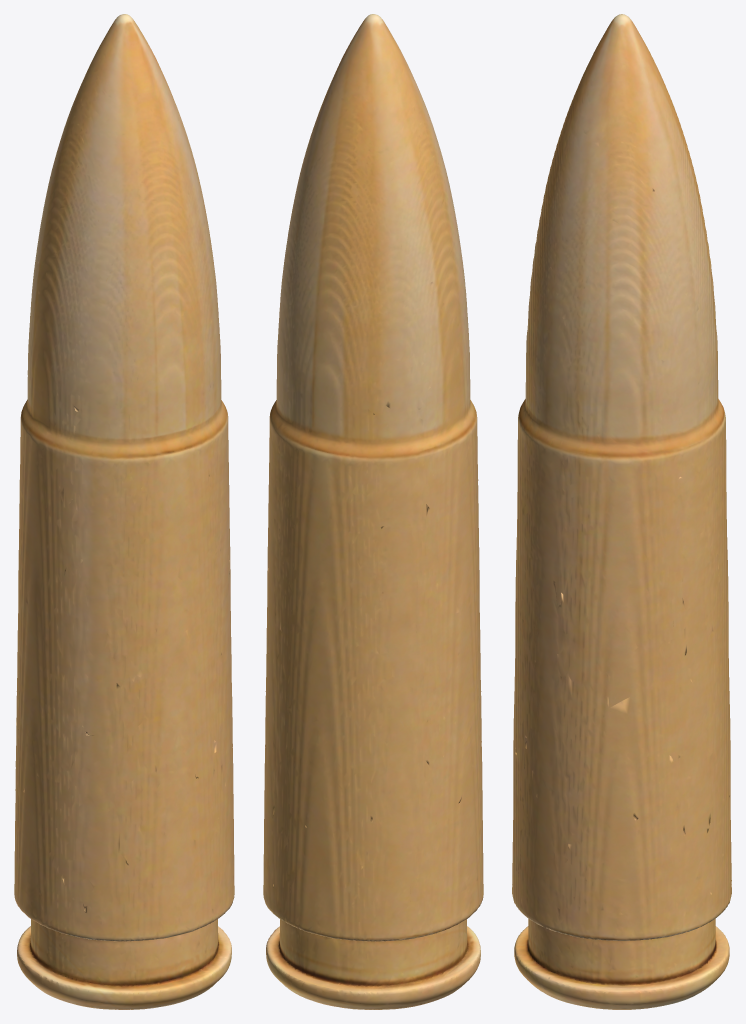
Rendered from projetil.fbx.
3 views of the same model, side by side, from view 1: azimuth 30°, elevation 25°; view 2: azimuth 150°, elevation 25°; view 3: azimuth 270°, elevation 25° (orthographic).
Parts seen in each view (by area): view 1: file1; view 2: file1; view 3: file1.
Part boxes in pixels (x1,y1,x2,y2): file1: (14,14,234,1009); file1: (263,14,483,1009); file1: (512,14,731,1009).
Bounding box in the file's own units: 42.01 × 200 × 41.8.
1 material, 1 textured.
